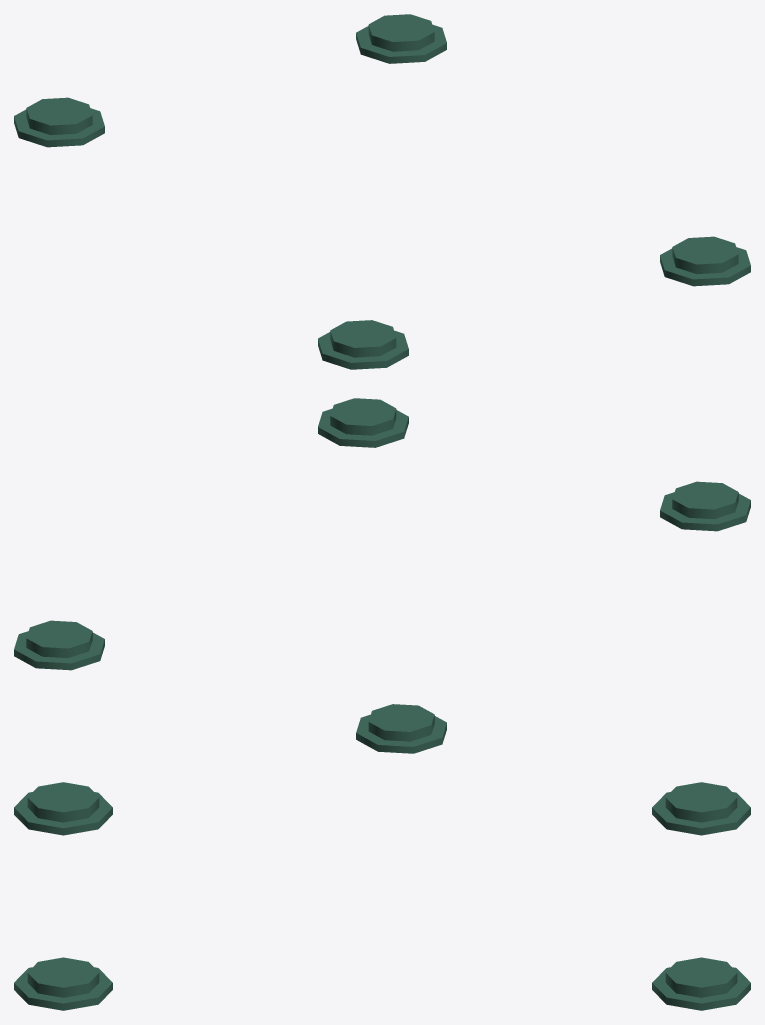
File: hangar2_mounts.obj
The picture shows the model from 3 angles, top to bottom: view 1: azimuth 30°, elevation 25°; view 2: azimuth 150°, elevation 25°; view 3: azimuth 270°, elevation 25°; orthographic projection. The views are drawn at different scales.
Visible parts, largest first — view 1: hangar2_mounts; view 2: hangar2_mounts; view 3: hangar2_mounts.
Part boxes in pixels (left/top/right/bottom): hangar2_mounts: left=14, top=14, right=750, bottom=369; hangar2_mounts: left=14, top=398, right=750, bottom=753; hangar2_mounts: left=14, top=782, right=750, bottom=1010.
Bounding box in the file's own units: 6.44 × 0.24 × 9.24.
